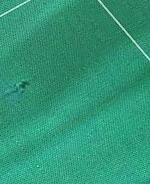knot: (8, 77, 33, 97)
